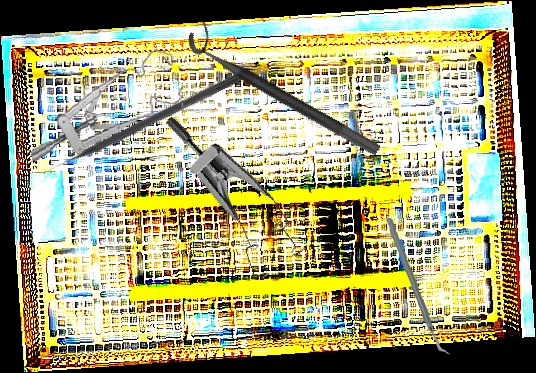Chopper: (380, 218, 456, 355)
Fixation Ring: (182, 18, 391, 158)
Pusher: (39, 66, 251, 178)
Speculum: (121, 113, 328, 293), (19, 46, 189, 164)
